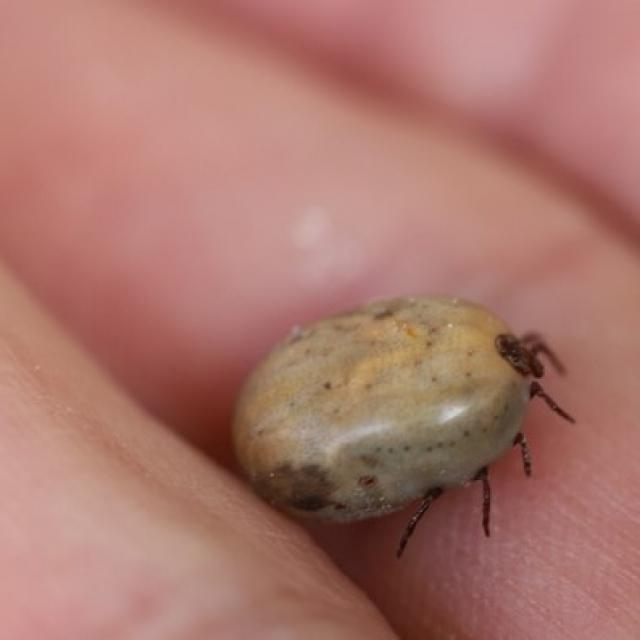Dermacentor Reticulatus-F-Fed: (229, 296, 576, 561)
